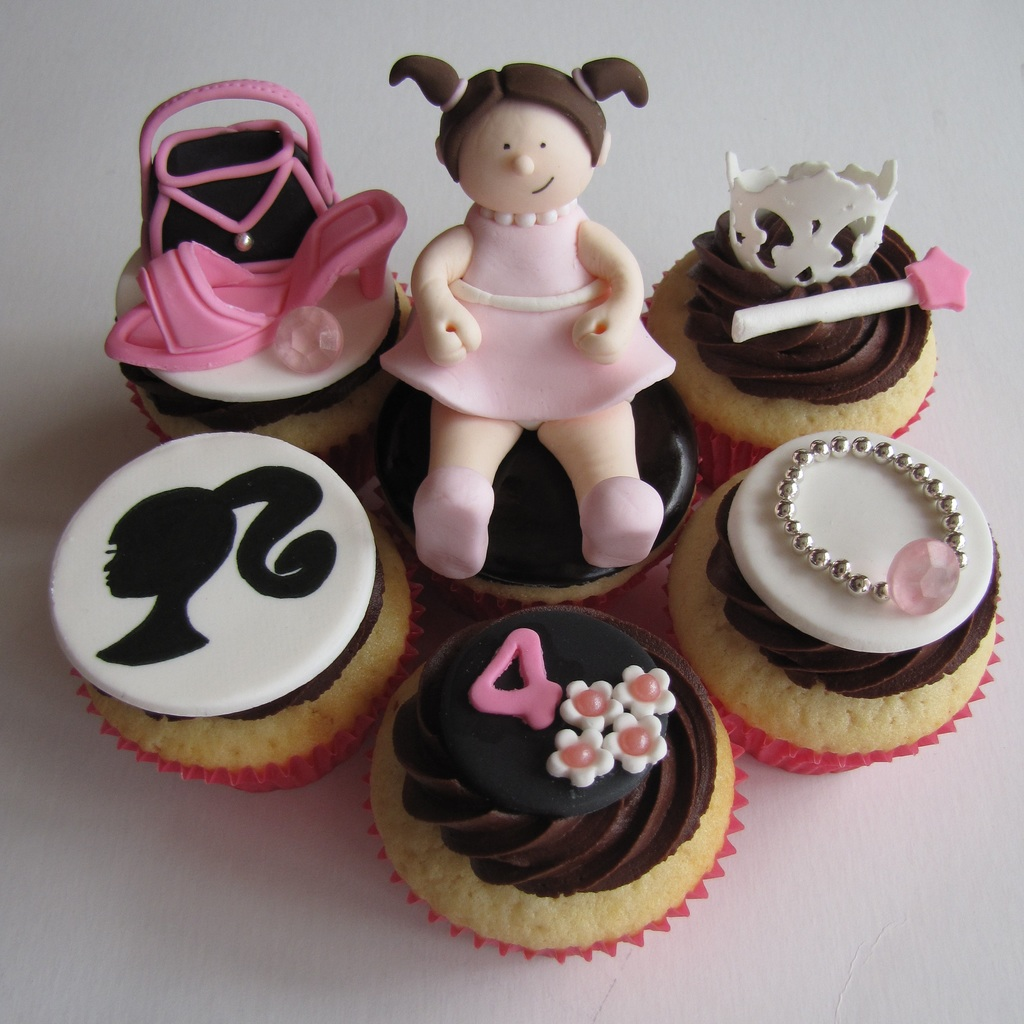Footwear: (404, 462, 494, 581), (582, 476, 665, 572)
